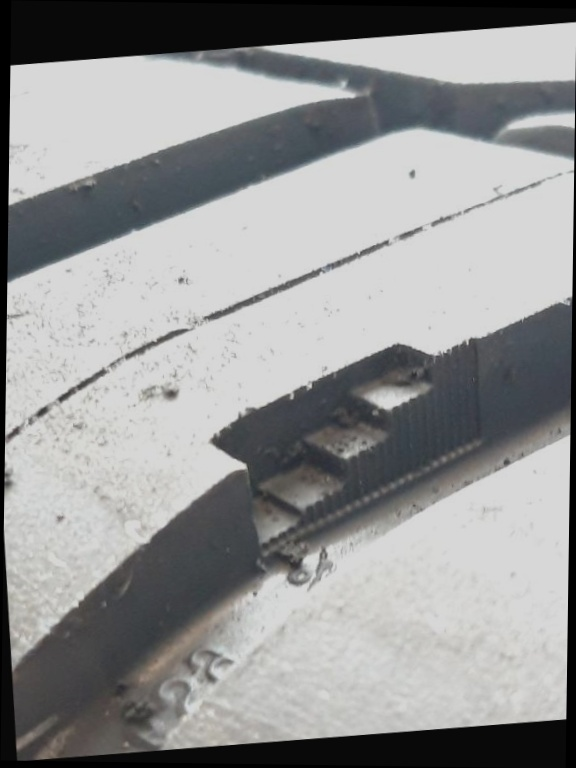temoin:95: (188, 313, 505, 585)
